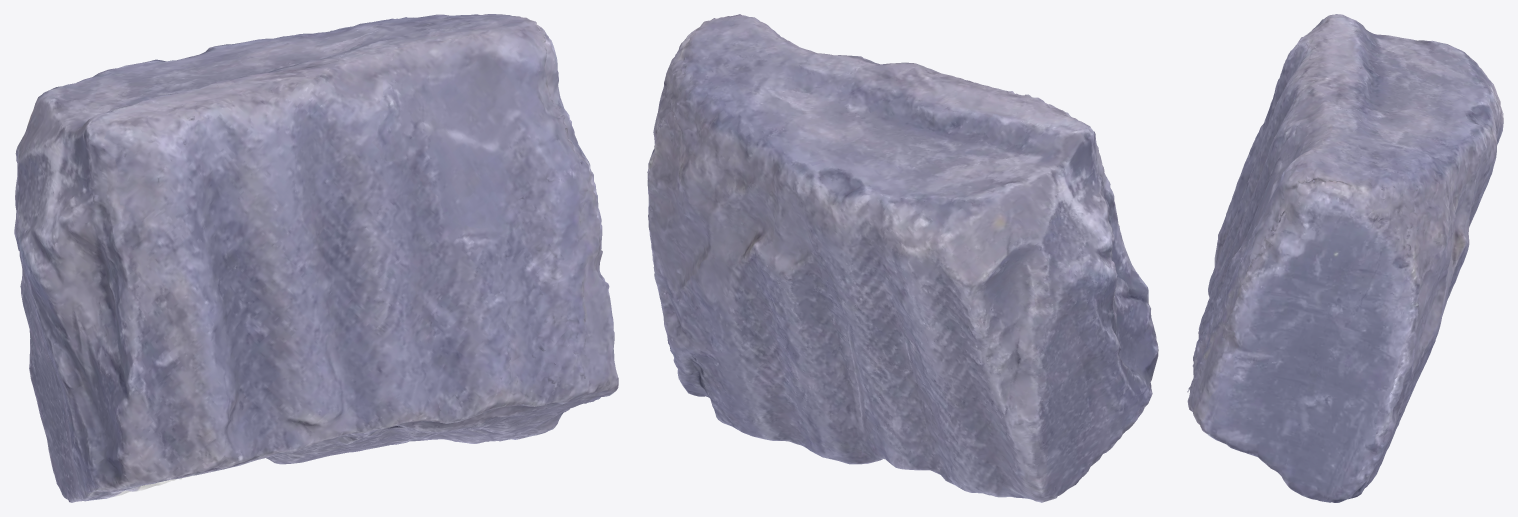
File: graphite.glb
3 renders of one model, left to right at view 1: azimuth 30°, elevation 25°; view 2: azimuth 150°, elevation 25°; view 3: azimuth 270°, elevation 25°, orthographic. The views are drawn at different scales.
Visible parts, largest first — view 1: Object_2; view 2: Object_2; view 3: Object_2.
Boxes of the visible parts, x1,y1,x2,y2 form: Object_2: (14,14,618,502); Object_2: (647,14,1158,502); Object_2: (1187,14,1503,502).
Bounding box in the file's own units: 1.67 × 1.39 × 1.16.
1 material, 1 textured.
